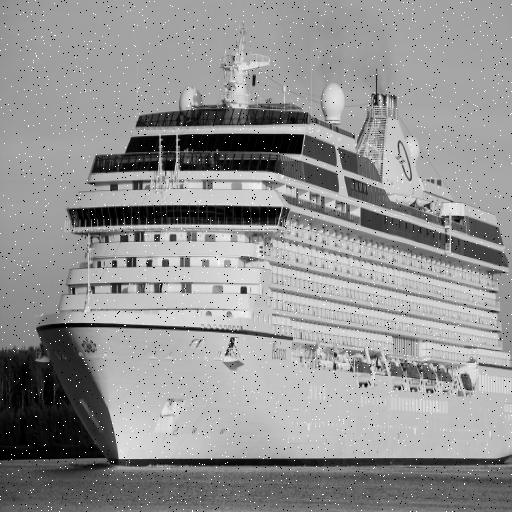cruises: (32, 22, 512, 469)
